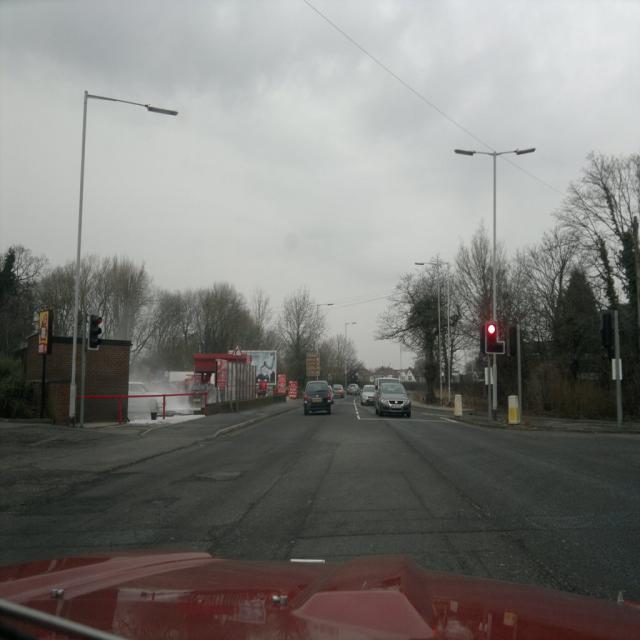traffic light: (88, 314, 103, 348), (487, 322, 503, 352)
